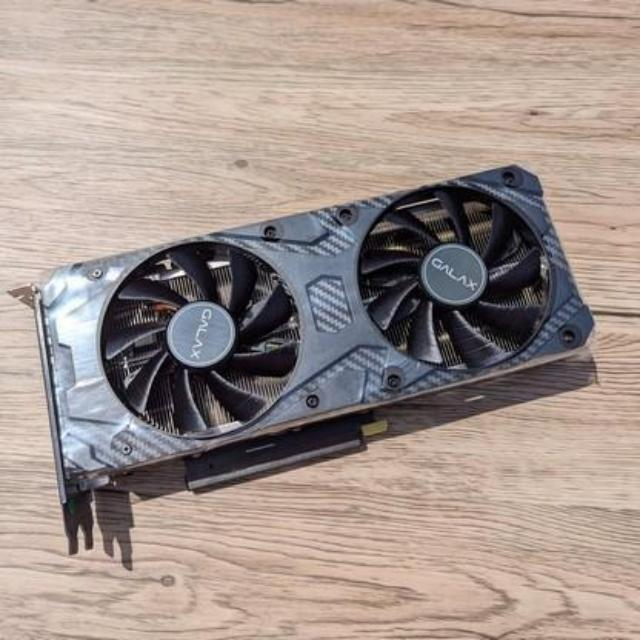GPU: (2, 181, 640, 521)
